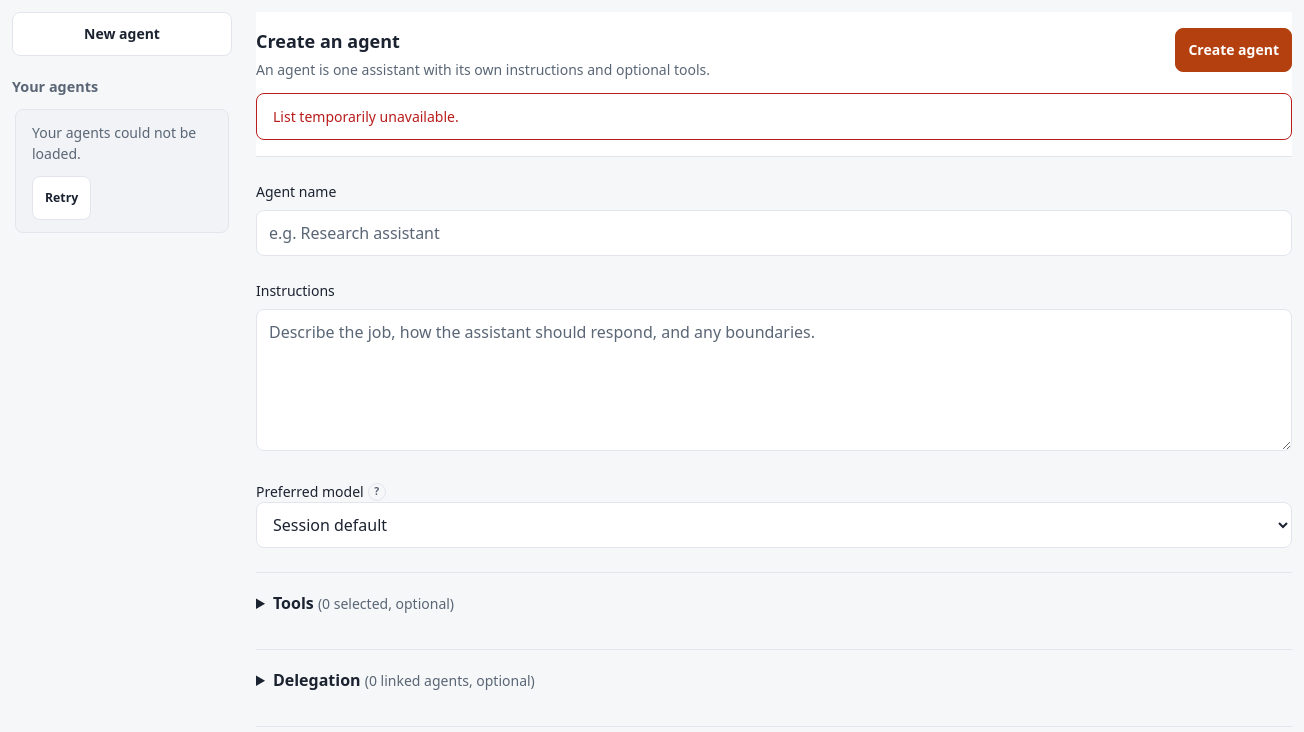
Scenario: AgentBuilder › distinguishes an unavailable saved list from an empty one and retries
This screenshot has width=1304, height=732.
Expected: the text "Your agents could not be loaded. Retry" is shown, [15,109,229,233]
Expected: the text "Your saved agents will appear here" is not shown
Click the button "Retry" at (62, 198), box [32,176,91,220]
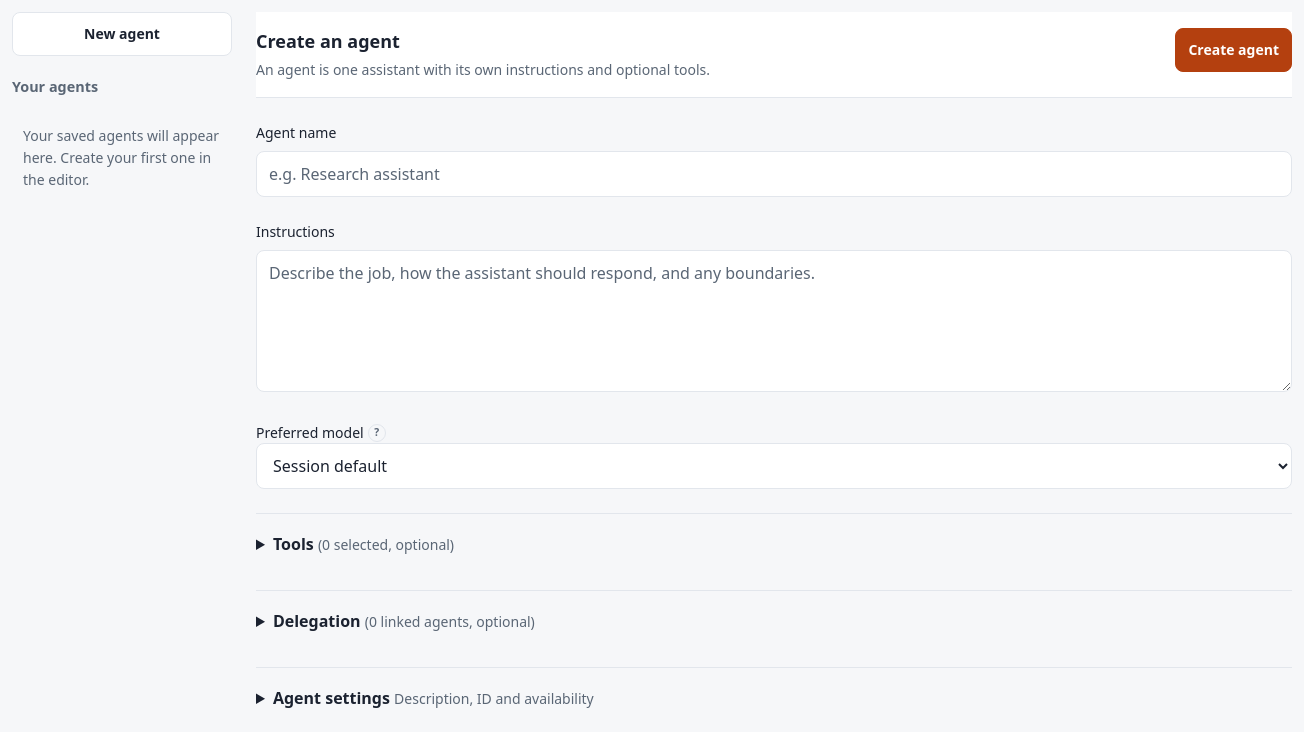
Expected: the list item "Your saved agents will appear here" is shown, [23,126,219,189]
Expected: the message "Your agents could not be loaded. Retry" is gone
